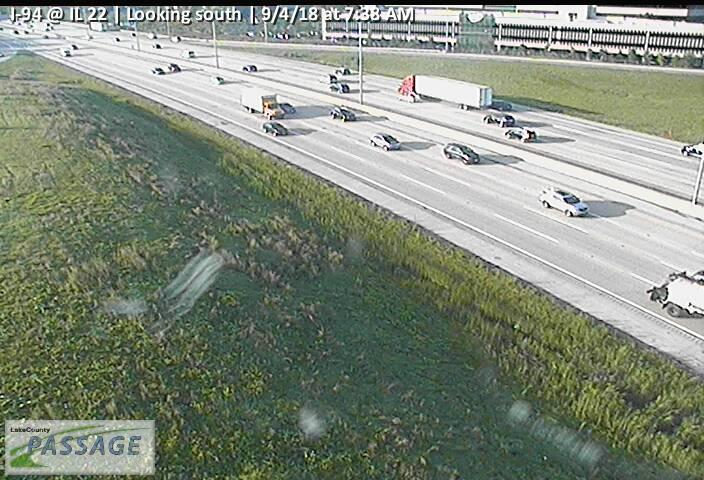Sedan: (539, 189, 588, 217), (443, 142, 480, 164), (370, 132, 400, 150), (484, 112, 514, 126), (262, 121, 290, 135), (329, 106, 355, 121)
Truck: (400, 75, 493, 111), (239, 91, 285, 120)
